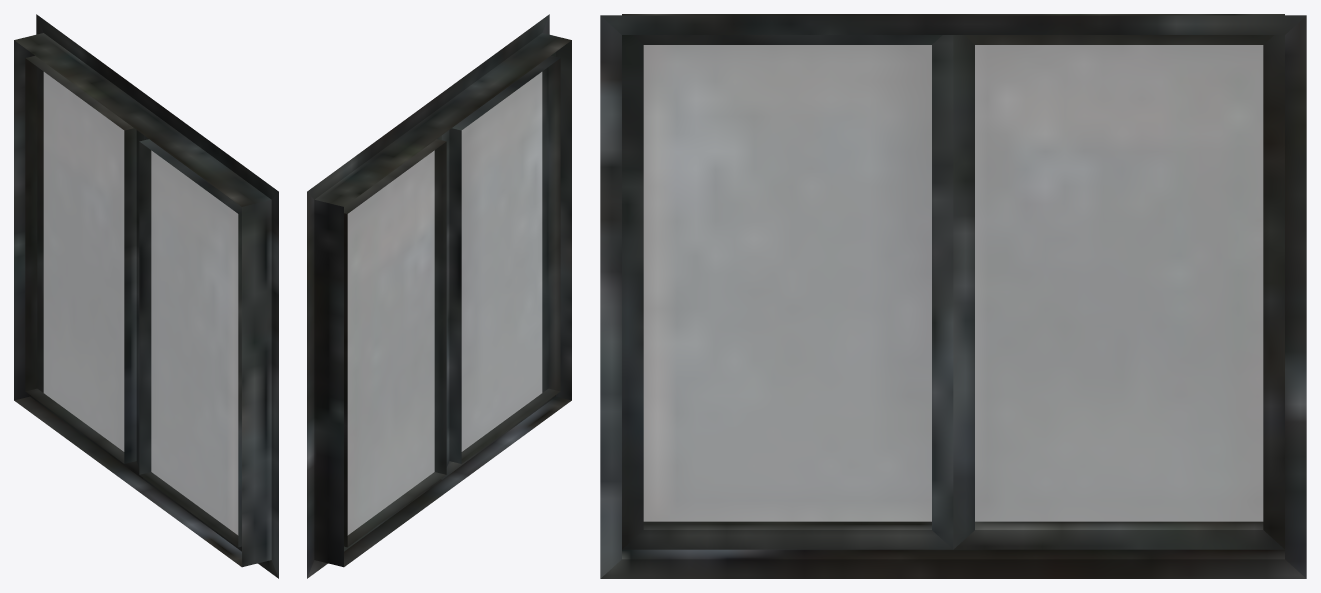
The model's file is DoubleWindows.FBX.
3 renders of one model, left to right at view 1: azimuth 30°, elevation 25°; view 2: azimuth 150°, elevation 25°; view 3: azimuth 270°, elevation 25°, orthographic. The views are drawn at different scales.
Parts seen in each view (by area): view 1: DoubleWindows; view 2: DoubleWindows; view 3: DoubleWindows.
Boxes of the visible parts, left/top/right/bottom form: DoubleWindows: left=14, top=14, right=278, bottom=578; DoubleWindows: left=307, top=14, right=571, bottom=578; DoubleWindows: left=600, top=14, right=1306, bottom=578.
Bounding box in the file's own units: 13.82 × 173 × 196.
